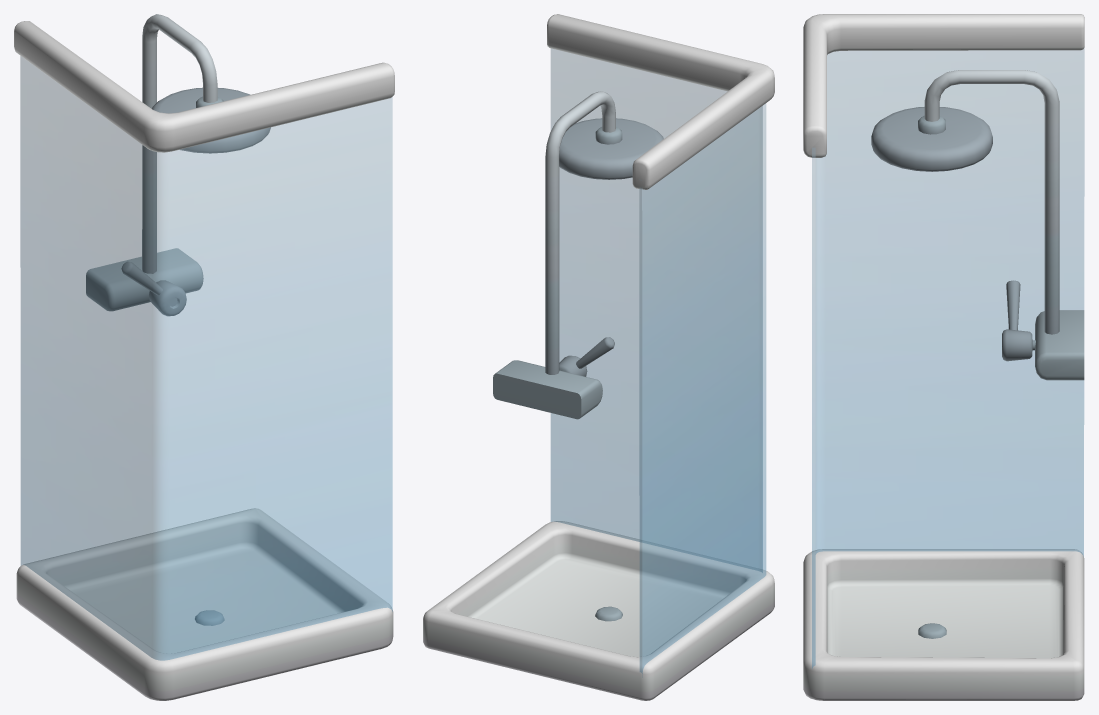
The model's file is Shower_02.glb.
3 views of the same model, side by side, from view 1: azimuth 30°, elevation 25°; view 2: azimuth 150°, elevation 25°; view 3: azimuth 270°, elevation 25° (orthographic). The views are drawn at different scales.
Visible parts, largest first — view 1: Shower_02; view 2: Shower_02; view 3: Shower_02.
Part boxes in pixels (x1,y1,x2,y2): Shower_02: (14, 14, 394, 700); Shower_02: (423, 14, 774, 700); Shower_02: (803, 14, 1084, 700).
Bounding box in the file's own units: 0.8 × 1.8 × 0.8011.
Materials: 2 (2 with a texture image).
